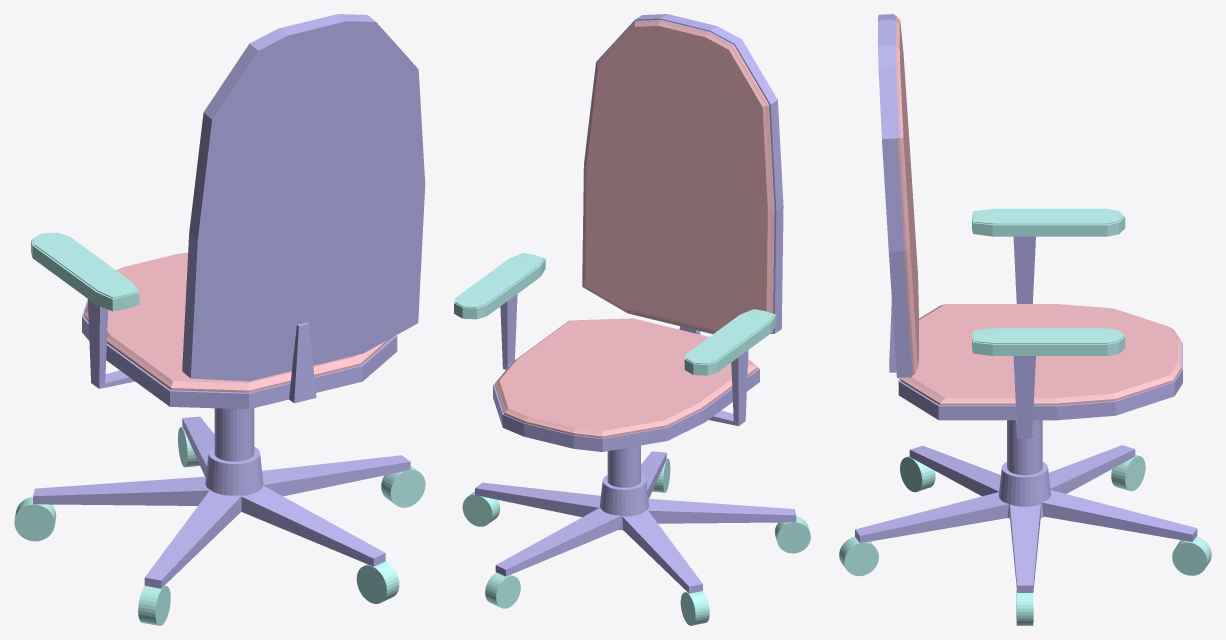
File: chair.glb
3 views of the same model, side by side, from view 1: azimuth 30°, elevation 25°; view 2: azimuth 150°, elevation 25°; view 3: azimuth 270°, elevation 25° (orthographic). The views are drawn at different scales.
Parts seen in each view (by area): view 1: Cube.014_1; view 2: Cube.014_1; view 3: Cube.014_1.
Part boxes in pixels (x1,y1,x2,y2): Cube.014_1: [14, 14, 425, 625]; Cube.014_1: [454, 14, 810, 625]; Cube.014_1: [839, 14, 1211, 625].
Size of the model in its own units: 5.66 by 9 by 5.86.
